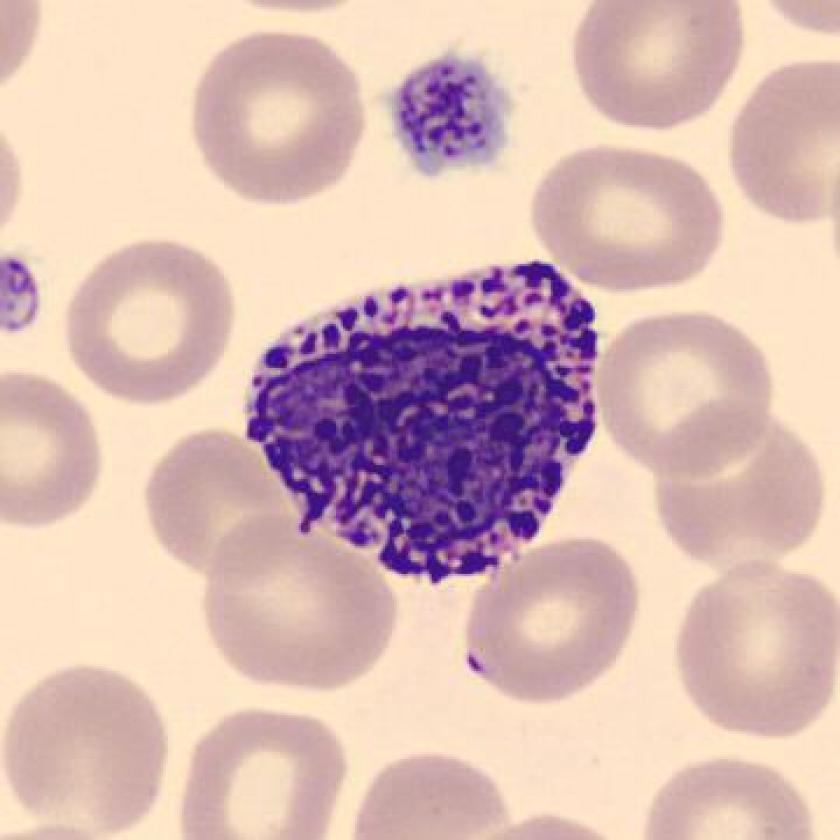basophil: (246, 263, 622, 577)
